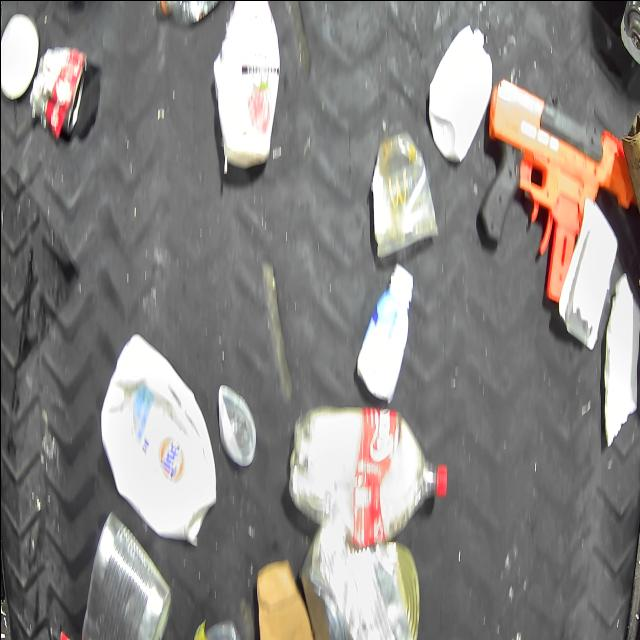can: (302, 530, 422, 640), (78, 513, 169, 640), (28, 45, 86, 136)
milk_jug: (99, 329, 218, 545), (427, 23, 491, 162)
non_white_jug: (211, 0, 280, 166)
plastic_bottle: (288, 410, 446, 546), (153, 0, 227, 24)
